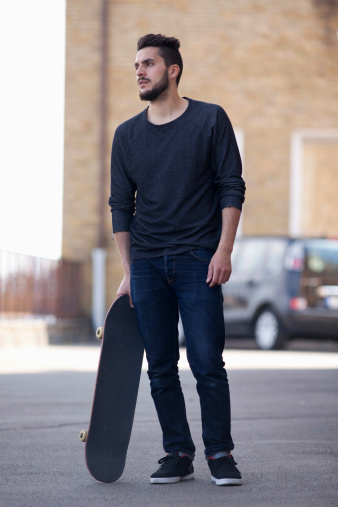em pe: (86, 15, 250, 507)
